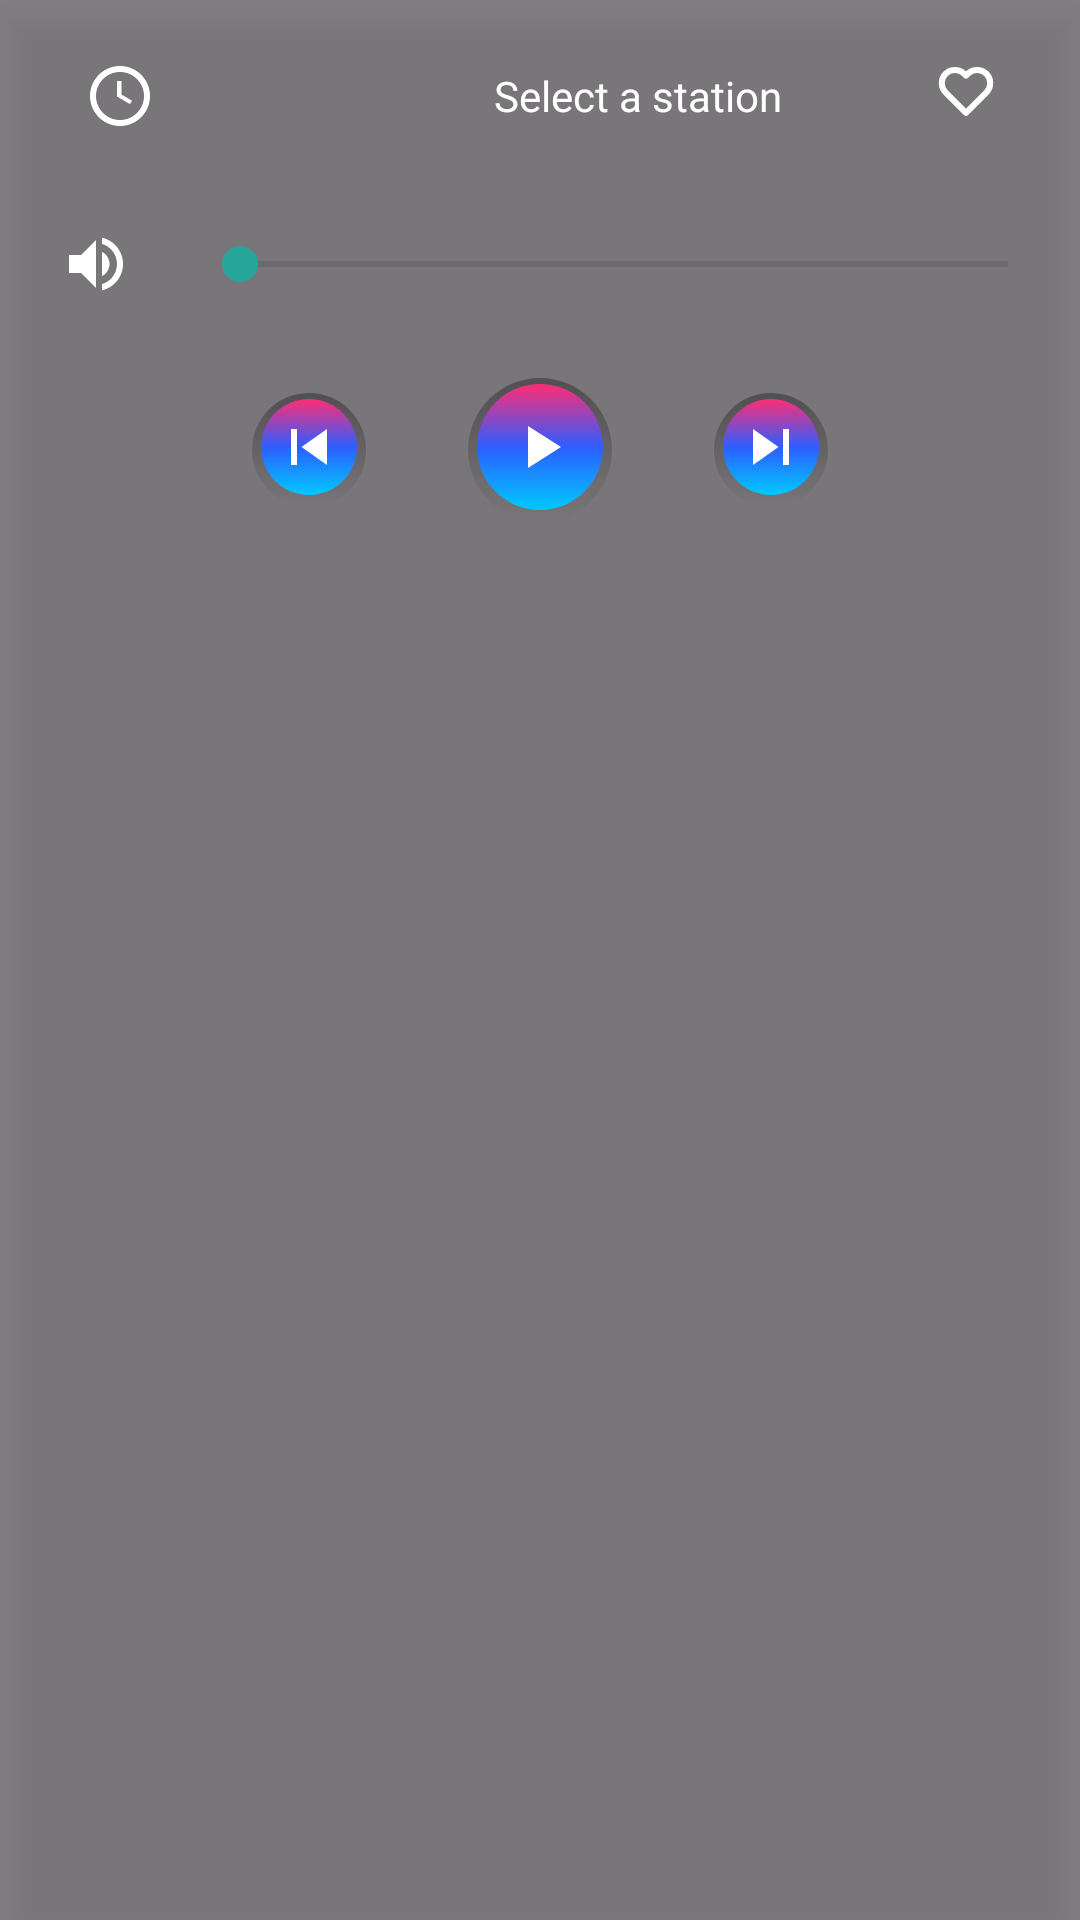

Icons on this 1080px×1920px Android screen, each with the point to tap as (x,y):
Favorite: (966,91)
Next: (771,444)
Play/Pause: (539,444)
Previous: (309,444)
Sleep Timer: (120,96)
